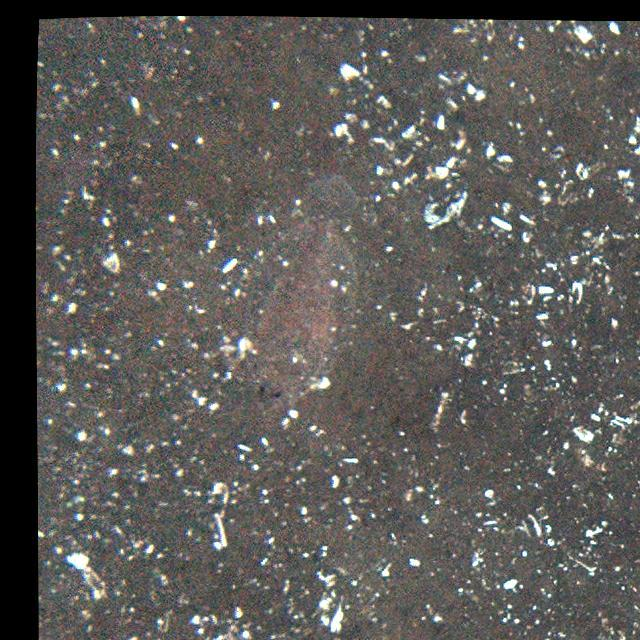flatfish: (232, 179, 368, 415)
